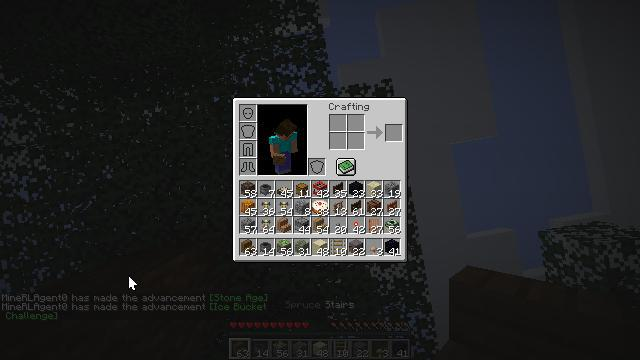cursor: (128, 275, 138, 291)
